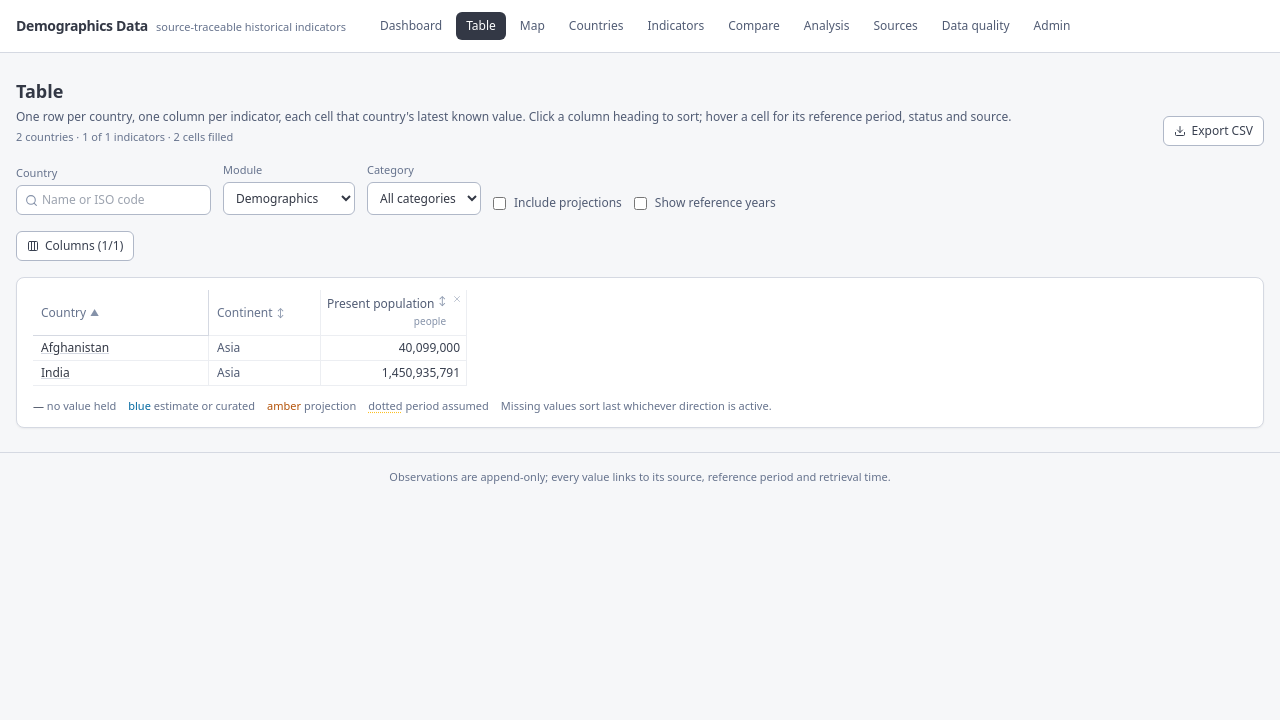
Test case: pages render › the column picker hides a column and can bring it back
The image size is (1280, 720).
expect the column heading "Present population ↕ people" is shown: met, box [321,290,467,336]
Click the button "Columns (1/1)": (75,246) [16,231,134,261]
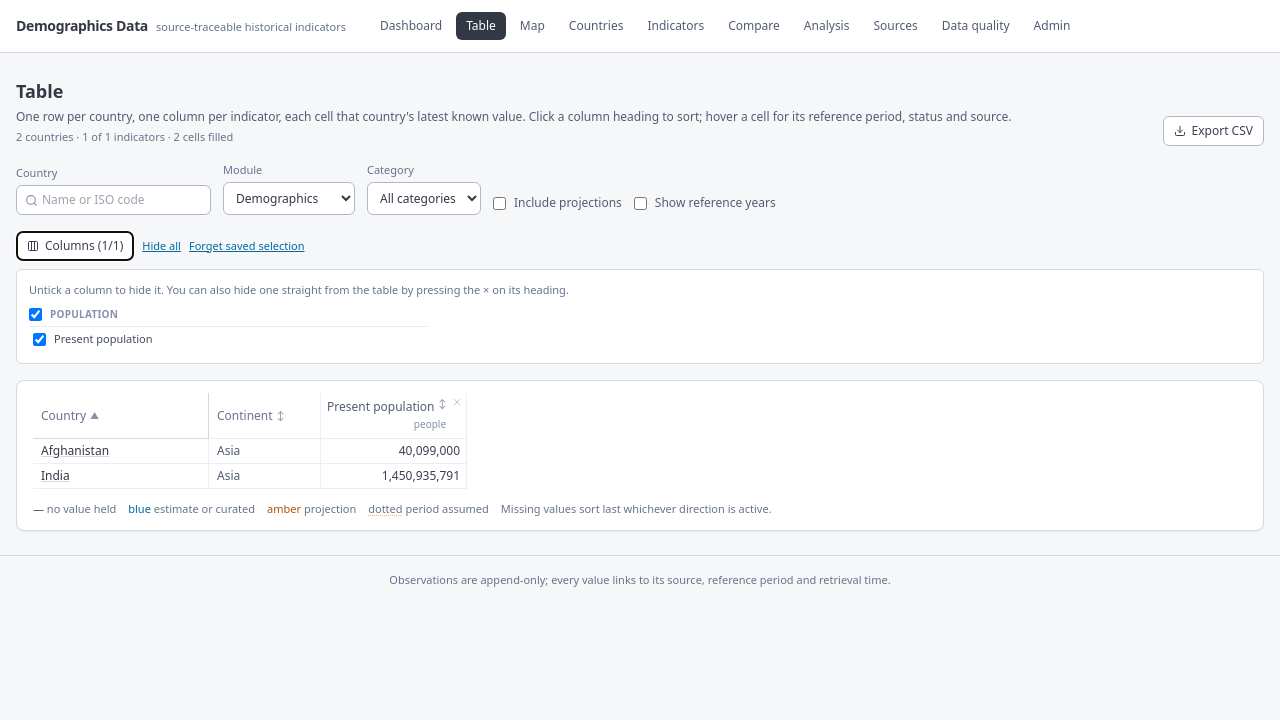
Click the checkbox labelled "Present population": (40,339) [33,332,46,346]
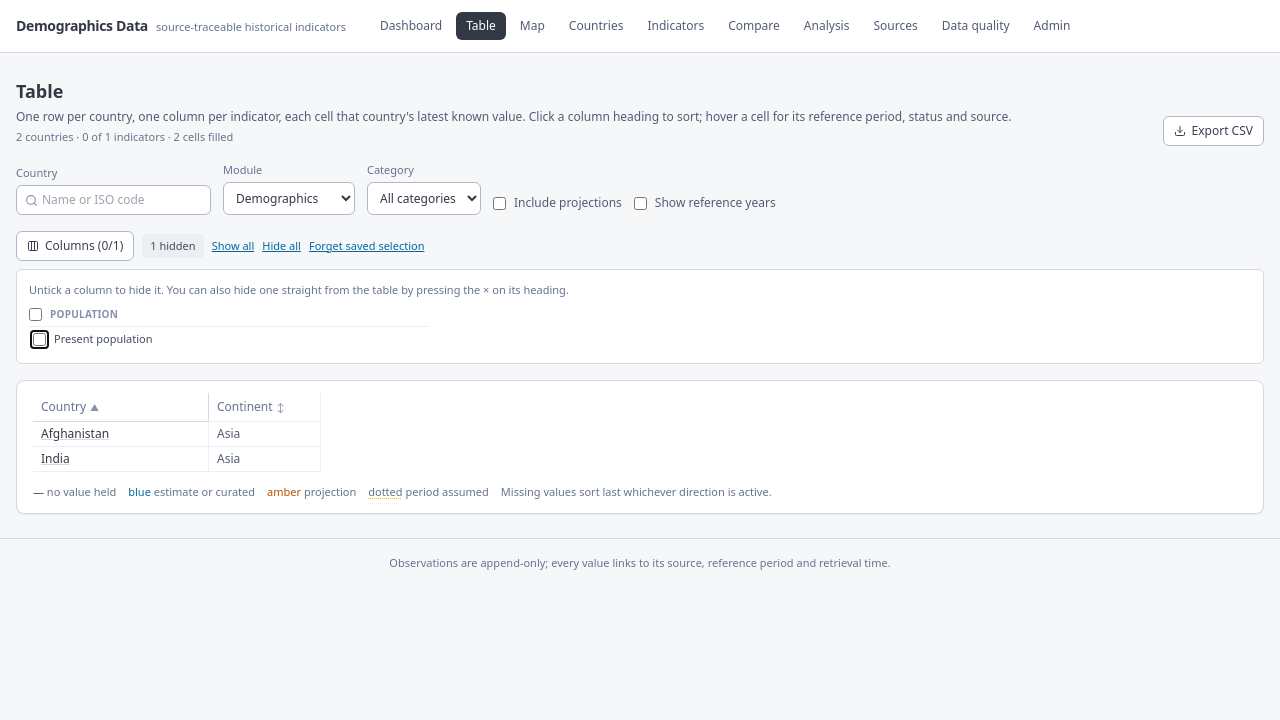
Click the checkbox labelled "Present population": (40,339) [33,332,46,346]
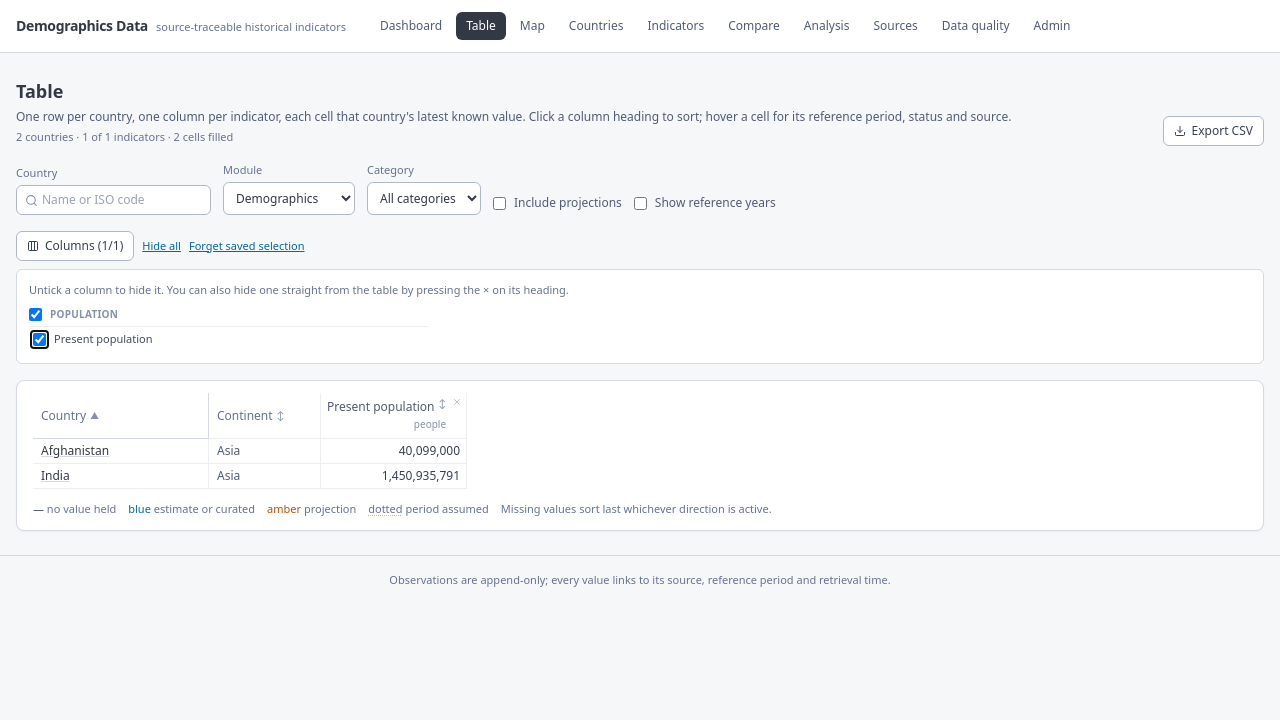
expect the column heading "Present population ↕ people" is shown: met, box [321,393,467,439]
